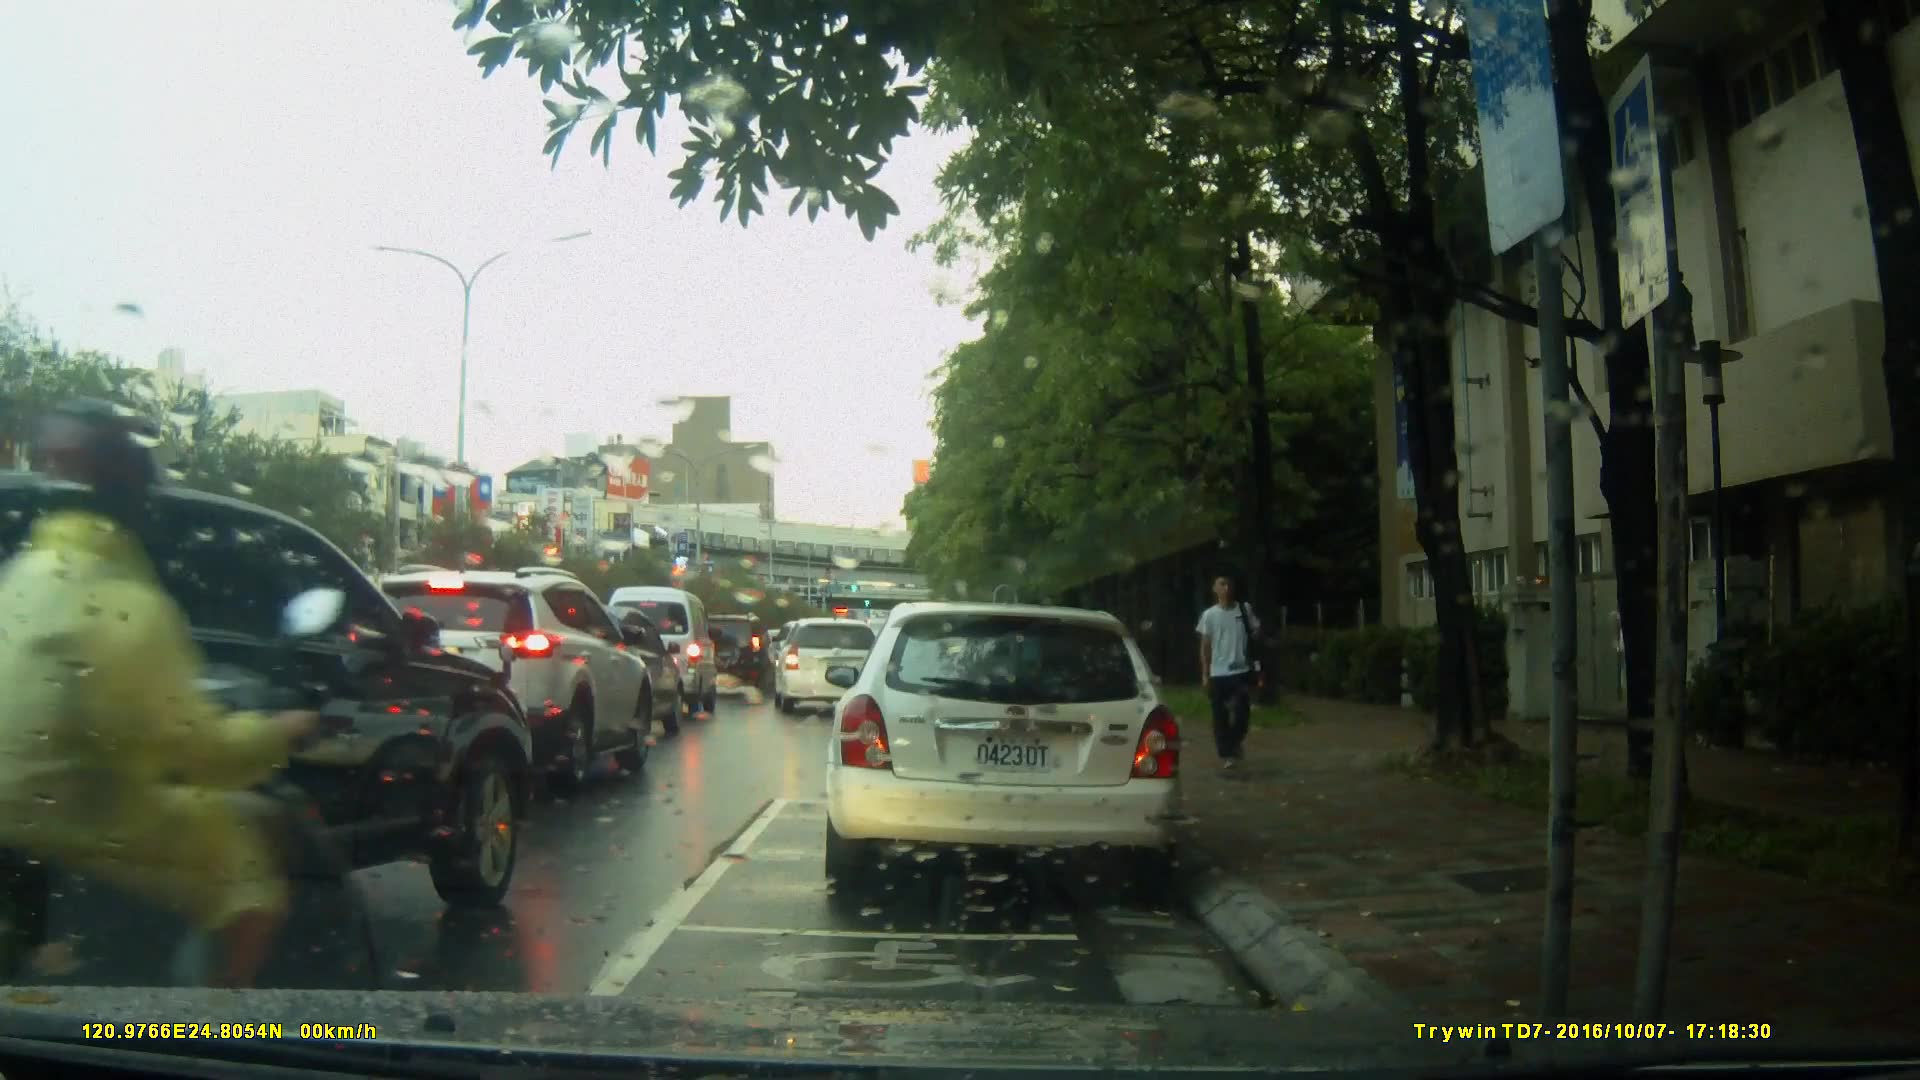pedestrian: (1194, 566, 1273, 788)
rider: (1, 406, 360, 1074)
vehicle: (1, 470, 533, 988), (820, 602, 1188, 898), (342, 563, 659, 791), (532, 603, 692, 736), (598, 585, 722, 722), (772, 617, 889, 715), (678, 611, 775, 703)
